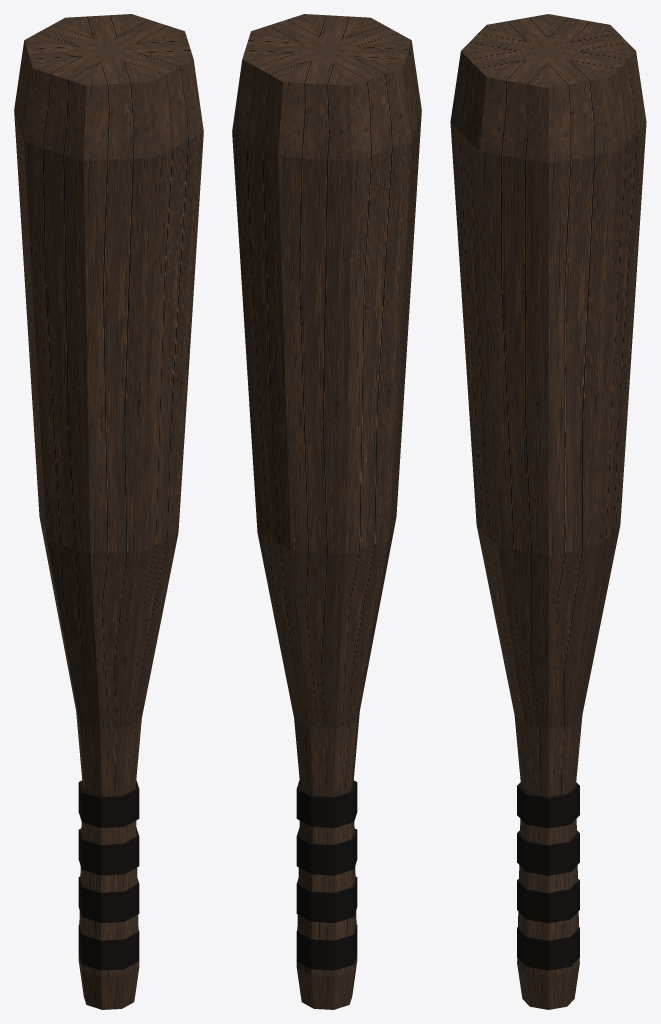
The model's file is bandit_club.glb.
The picture shows the model from 3 angles, left to right: view 1: azimuth 30°, elevation 25°; view 2: azimuth 150°, elevation 25°; view 3: azimuth 270°, elevation 25°; orthographic projection.
Visible parts, largest first — view 1: CandidateMesh; view 2: CandidateMesh; view 3: CandidateMesh.
Boxes of the visible parts, x1=… form: CandidateMesh: x1=14, y1=14, x2=203, y2=1009; CandidateMesh: x1=232, y1=14, x2=421, y2=1009; CandidateMesh: x1=450, y1=14, x2=646, y2=1009.
Bounding box in the file's own units: 0.15 × 0.8 × 0.15.
Materials: 2 (1 with a texture image).
